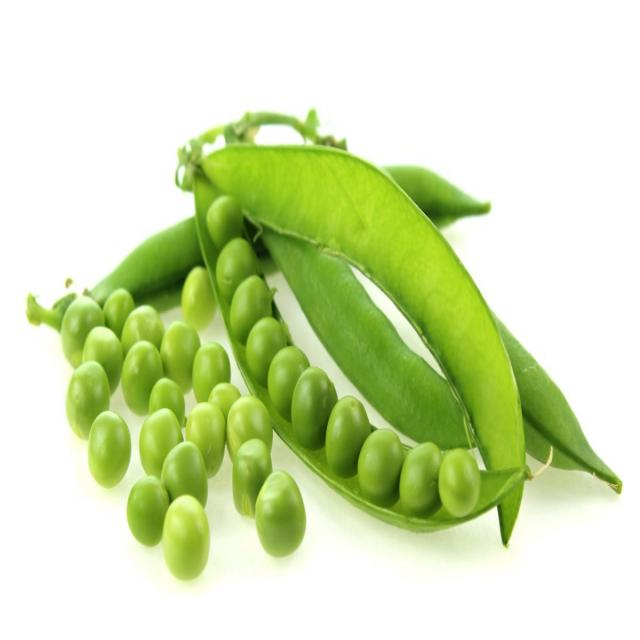Peas: (64, 295, 227, 572), (228, 272, 322, 561), (330, 390, 479, 522)
